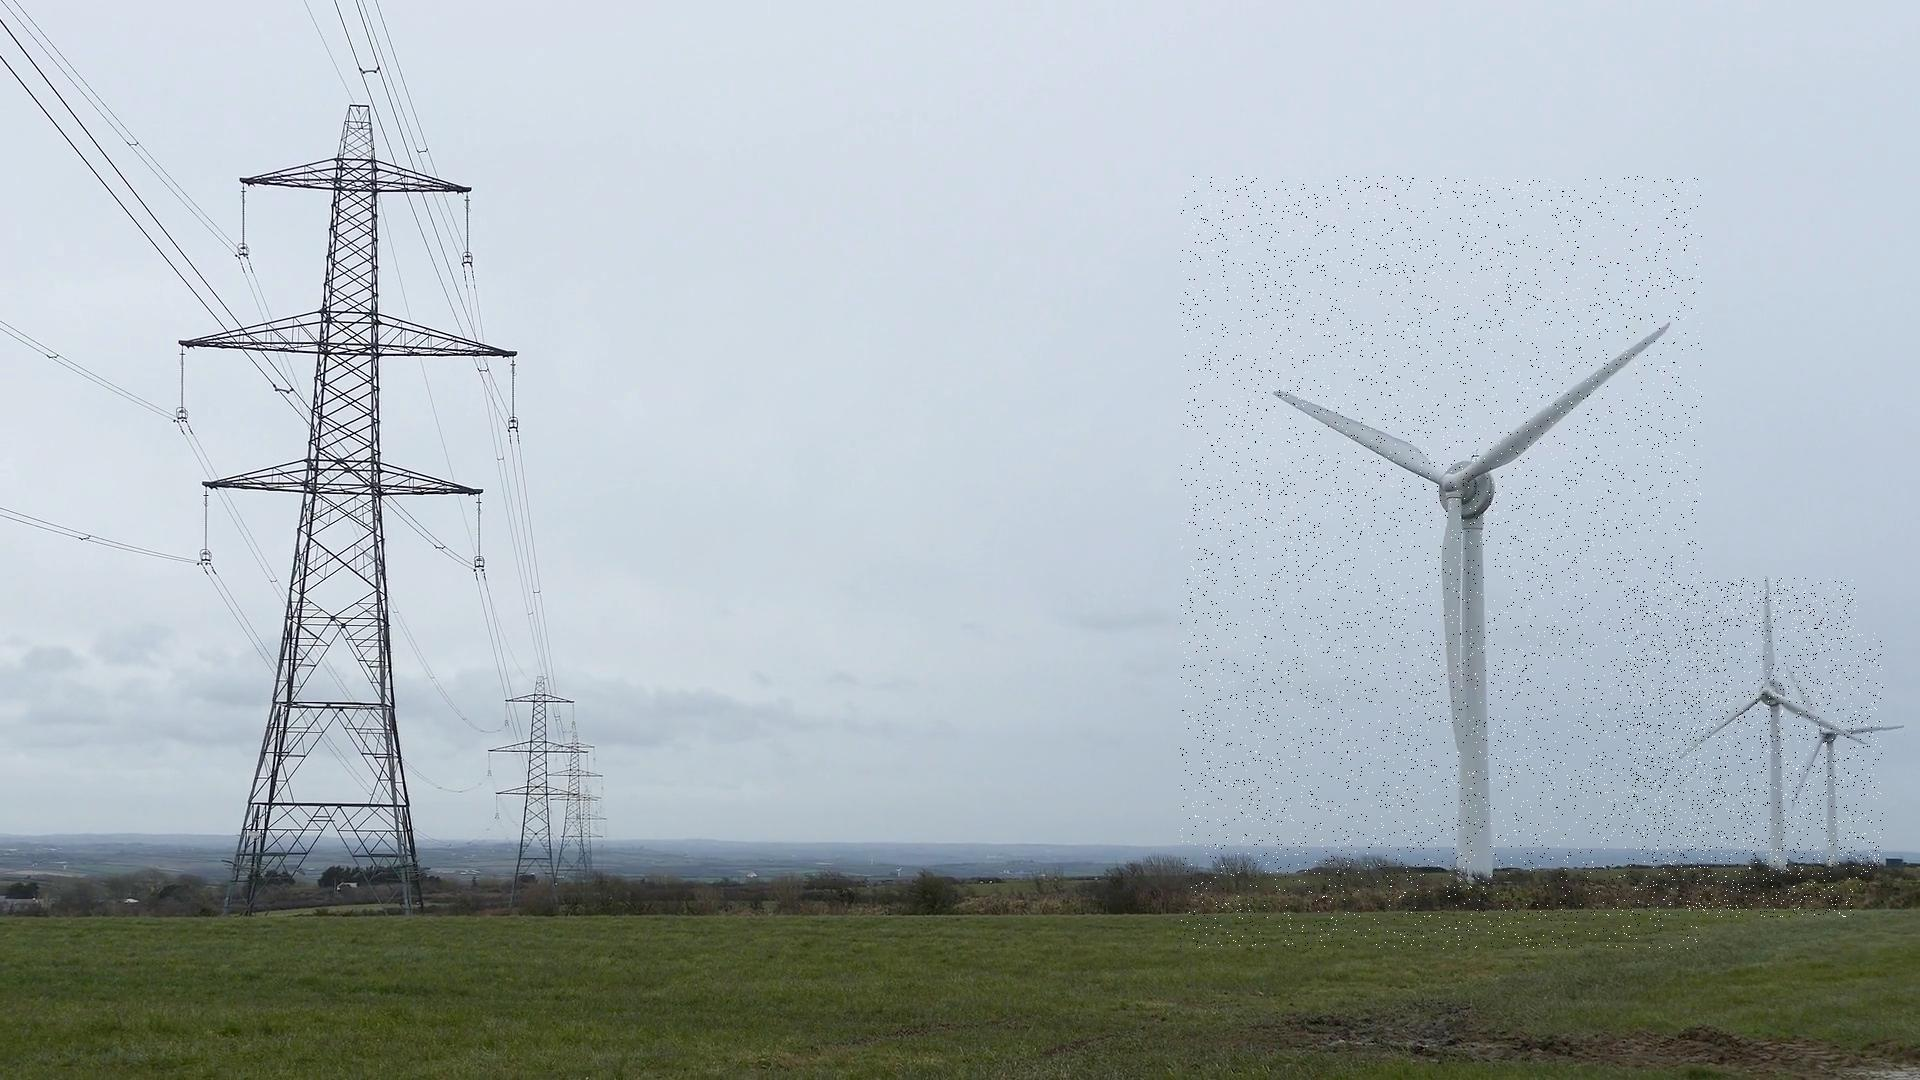cable tower: (171, 102, 517, 916), (485, 675, 587, 913), (543, 735, 603, 887), (570, 793, 608, 880)
turbine: (1180, 175, 1702, 949), (1627, 579, 1857, 918), (1727, 633, 1883, 887)
